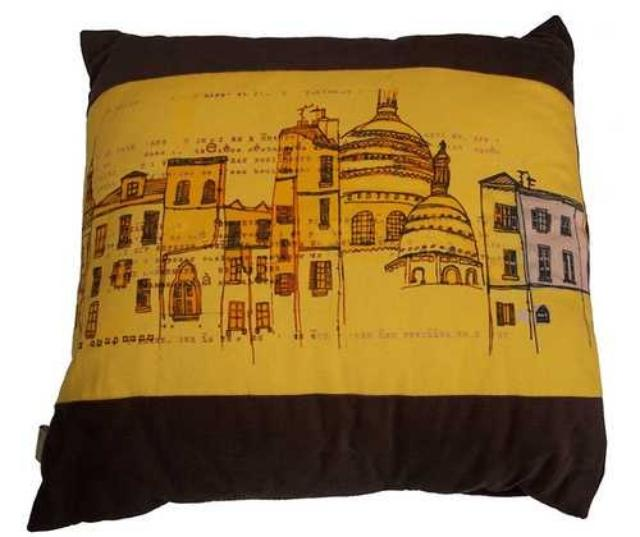pillow: (26, 14, 606, 532)
